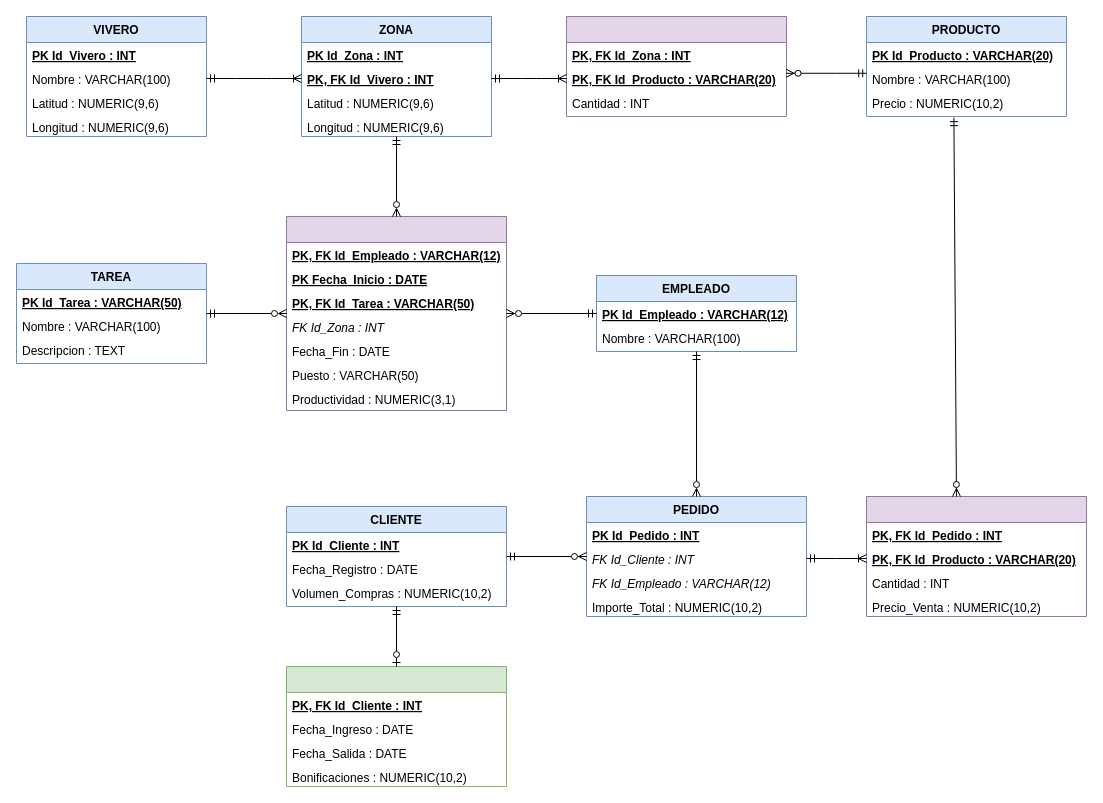
Some shapes in this 1103 by 803 pixel diagram are drawn without their labels. The box of each missing label's shape, as (x1, y1, x2, y2) in pixels:
ALOJA_STOCK: (566, 16, 786, 116)
CONTIENE: (866, 496, 1086, 616)
HISTORICO_DESTINO: (286, 216, 506, 410)
SUSCRIPTOR: (286, 666, 506, 786)
